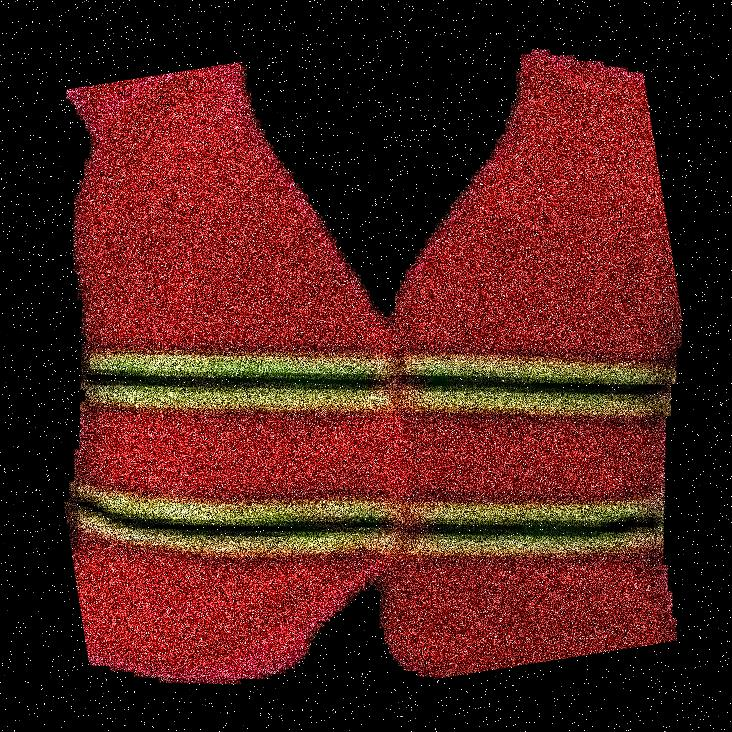Colete: (129, 0, 731, 731)
